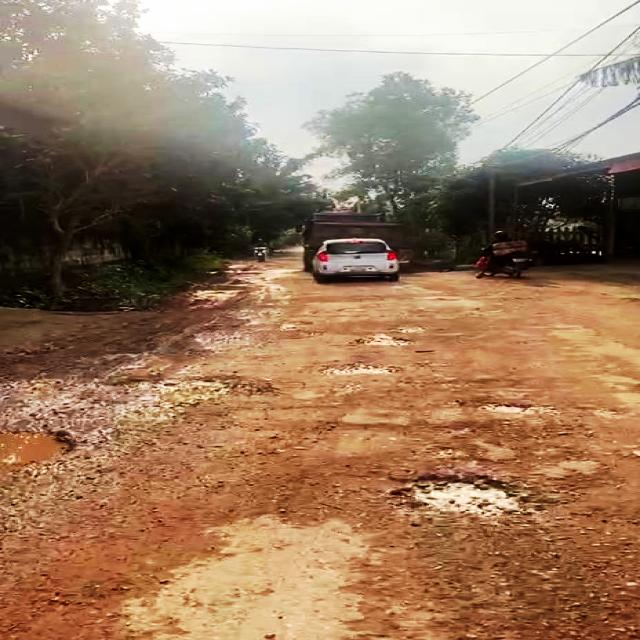pothole: (388, 471, 542, 518), (0, 424, 87, 482), (124, 376, 243, 407), (476, 398, 560, 416), (314, 361, 398, 376), (349, 334, 410, 348)
